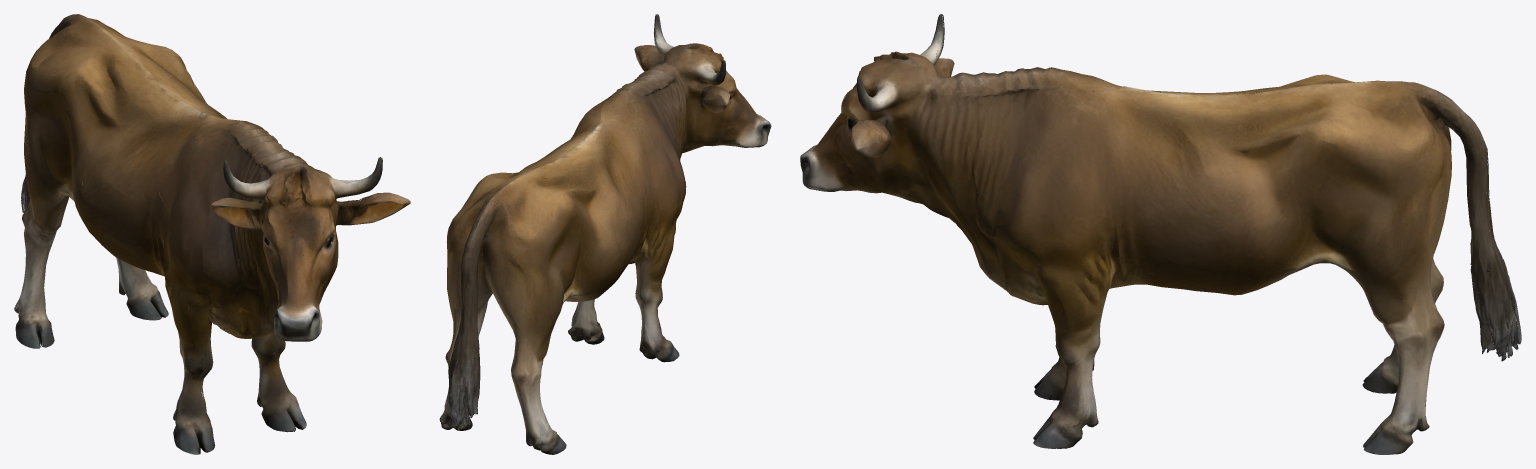
The model's file is harg_high.glb.
3 renders of one model, left to right at view 1: azimuth 30°, elevation 25°; view 2: azimuth 150°, elevation 25°; view 3: azimuth 270°, elevation 25°, orthographic. The views are drawn at different scales.
Visible parts, largest first — view 1: world; view 2: world; view 3: world.
Part boxes in pixels (x1,y1,x2,y2): world: (14, 14, 410, 454); world: (439, 14, 771, 454); world: (800, 14, 1521, 454).
Bounding box in the file's own units: 0.4986 × 1 × 1.79.
1 material, 1 textured.
